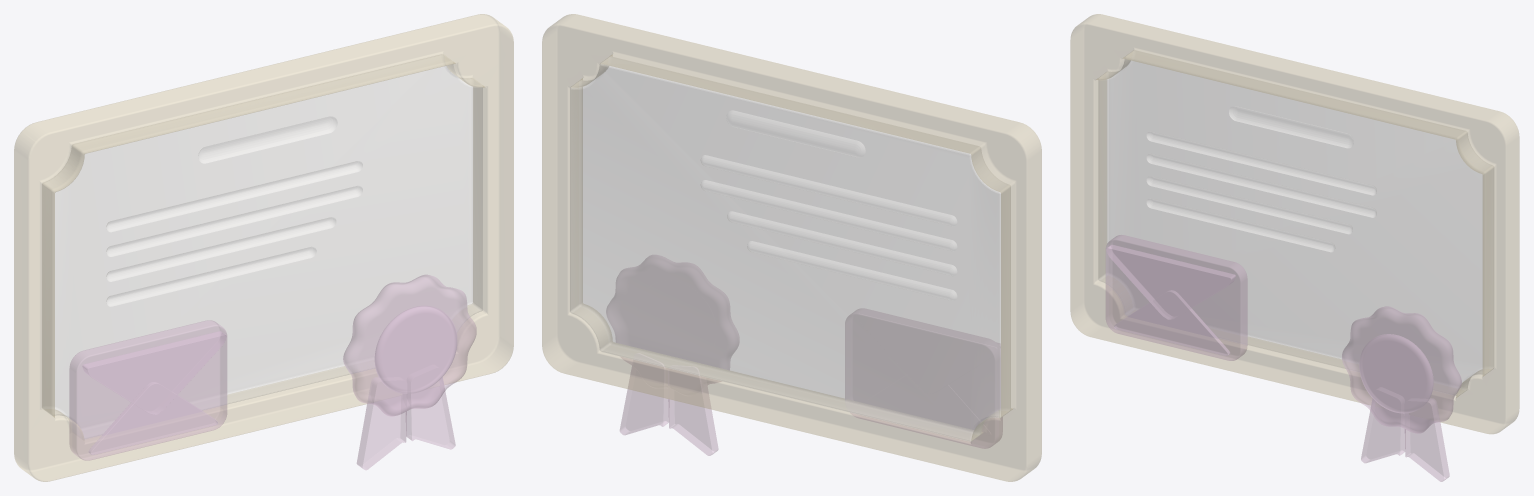
The model's file is ses.glb.
The picture shows the model from 3 angles, left to right: view 1: azimuth 30°, elevation 25°; view 2: azimuth 150°, elevation 25°; view 3: azimuth 330°, elevation 25°; orthographic projection. The views are drawn at different scales.
Visible parts, largest first — view 1: Engraved glass plaque, Amber certificate frame, Envelope body, Scalloped ribbon seal, Envelope flap, Raised ribbon medallion, Envelope lower fold, Ribbon tail left, Ribbon tail right; view 2: Engraved glass plaque, Amber certificate frame, Envelope body, Scalloped ribbon seal, Ribbon tail left, Ribbon tail right; view 3: Engraved glass plaque, Amber certificate frame, Envelope body, Scalloped ribbon seal, Envelope flap, Raised ribbon medallion, Envelope lower fold, Ribbon tail right, Ribbon tail left.
Part boxes in pixels (x1,y1,x2,y2): Engraved glass plaque: (42, 54, 482, 438); Amber certificate frame: (14, 14, 513, 481); Envelope body: (69, 320, 226, 460); Scalloped ribbon seal: (343, 275, 476, 416); Envelope flap: (82, 331, 226, 414); Raised ribbon medallion: (375, 306, 456, 393); Envelope lower fold: (89, 382, 217, 454); Ribbon tail left: (357, 378, 406, 469); Ribbon tail right: (406, 377, 455, 449); Engraved glass plaque: (570, 56, 1010, 441); Amber certificate frame: (542, 14, 1041, 481); Envelope body: (845, 308, 1002, 448); Scalloped ribbon seal: (606, 255, 739, 384); Ribbon tail left: (668, 368, 718, 455); Ribbon tail right: (620, 360, 669, 434); Engraved glass plaque: (1098, 50, 1493, 395); Amber certificate frame: (1070, 14, 1519, 433); Envelope body: (1106, 235, 1247, 360); Scalloped ribbon seal: (1342, 306, 1461, 433); Envelope flap: (1106, 245, 1235, 319); Raised ribbon medallion: (1359, 334, 1433, 413); Envelope lower fold: (1114, 290, 1229, 355); Ribbon tail right: (1404, 399, 1449, 481); Ribbon tail left: (1361, 399, 1405, 462).
Bounding box in the file's own units: 4.4 × 3.54 × 0.46.
